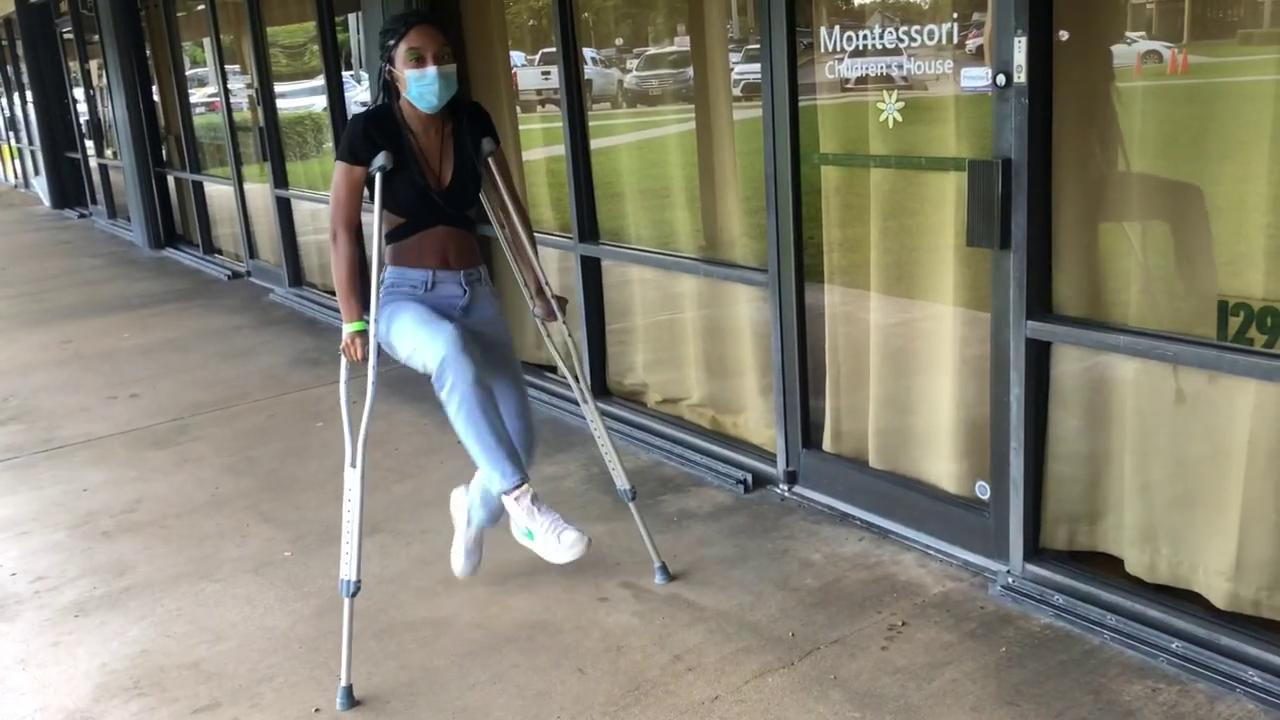crutches: (326, 8, 676, 714)
